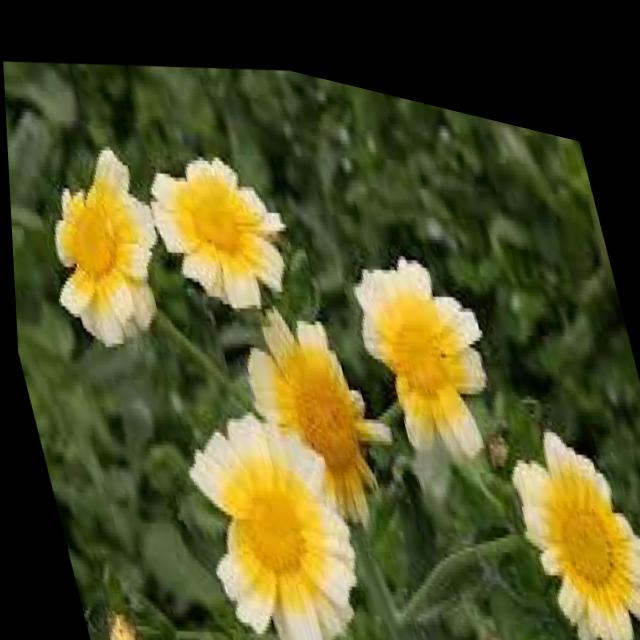Flower: (154, 350, 376, 640), (216, 261, 402, 536), (112, 101, 319, 339), (13, 124, 188, 374), (337, 216, 507, 459), (484, 378, 640, 640)
